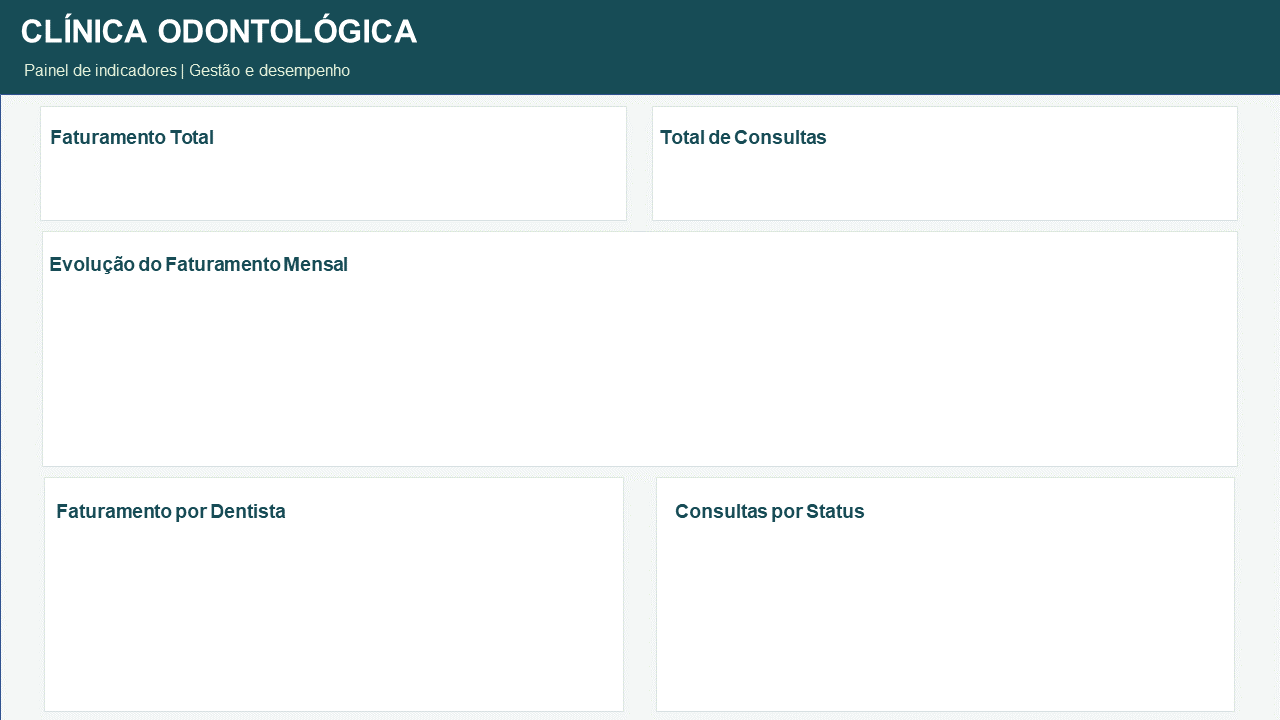

This screenshot's page, from the dashboard's own definition file:
{"tool":"powerbi","page":{"name":"Página 1","canvas":[1280,720],"ordinal":0},"visuals":[{"type":"card","fields":{"Values":["Sum(FatoConsulta.valor_pago)"]},"box":[49.9,107.7,589.9,99.9],"z":0},{"type":"card","fields":{"Values":["CountNonNull(FatoConsulta.id_consulta)"]},"box":[660.6,107.4,590.5,99.1],"z":1000},{"type":"lineChart","fields":{"Category":["DimData.nome_mes"],"Y":["Medidas.Faturamento Total"]},"box":[49.5,282.2,1172.6,174.8],"z":2000},{"type":"barChart","fields":{"Category":["DimDentista.nome"],"Y":["Medidas.Faturamento Total"]},"box":[49.5,518.9,572.6,189.9],"z":3000},{"type":"barChart","fields":{"Y":["Medidas.Total de Consultas"],"Category":["FatoConsulta.status"]},"box":[660.6,510.6,551.9,206.5],"z":3001}]}

Visuals, with their boxes in screenshot pixels (x1, y1, x2, y2), scaled from the page's 1280x720 canvas onto the 1280x720 screenshot:
card - Sum(FatoConsulta.valor_pago): Rect(50, 108, 640, 208)
card - CountNonNull(FatoConsulta.id_consulta): Rect(661, 107, 1251, 206)
lineChart - DimData.nome_mes x Medidas.Faturamento Total: Rect(50, 282, 1222, 457)
barChart - DimDentista.nome x Medidas.Faturamento Total: Rect(50, 519, 622, 709)
barChart - Medidas.Total de Consultas x FatoConsulta.status: Rect(661, 511, 1212, 717)
